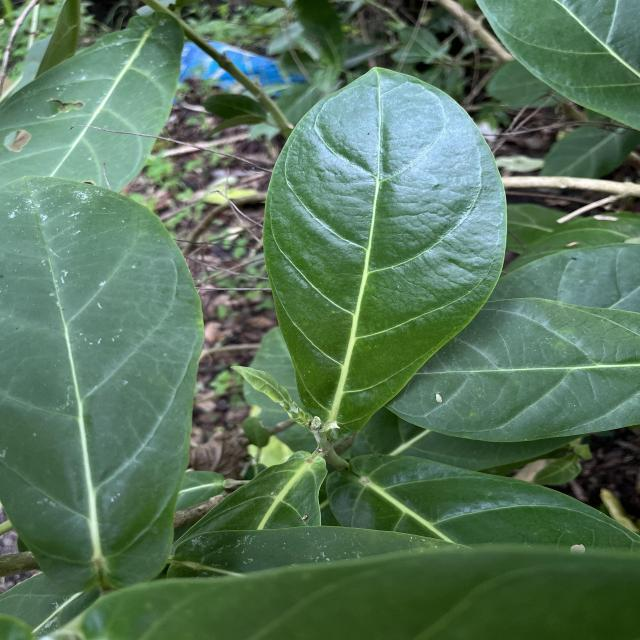Calotropis gigantea: (259, 64, 511, 428), (0, 173, 208, 581), (387, 289, 640, 445)
